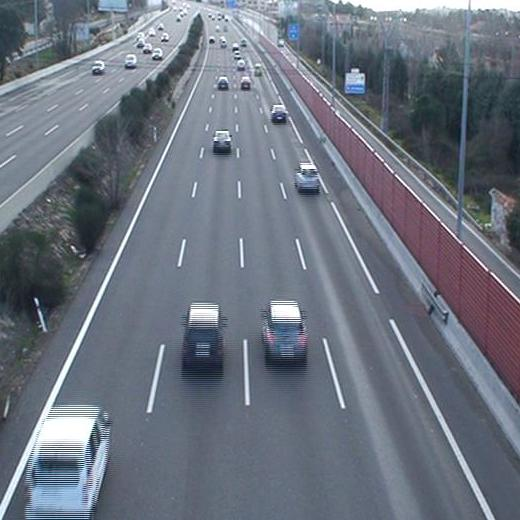car: (182, 300, 228, 371), (262, 300, 308, 364), (293, 164, 322, 194), (211, 129, 233, 153), (269, 103, 289, 124), (215, 74, 229, 90), (239, 75, 252, 90)
